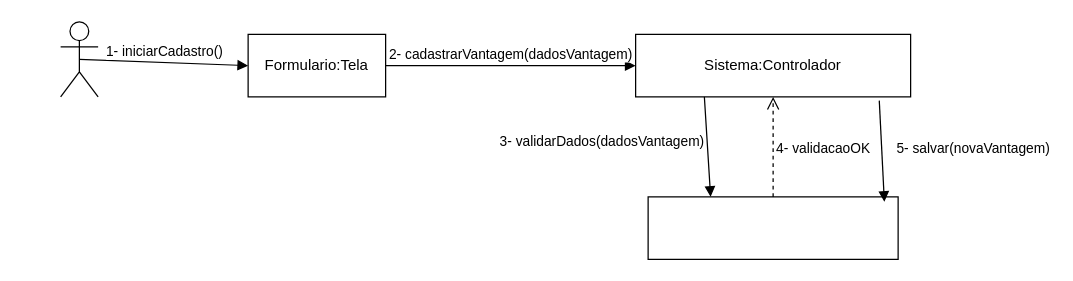
This 1073x281 diagram has some shape labels left out. Here are the shapes that lost their labels. From the top down, the box of each, then its label:
(59, 21, 98, 97): EmpresaParceira
(647, 196, 898, 259): RepositorioVantagens : BancoDados
